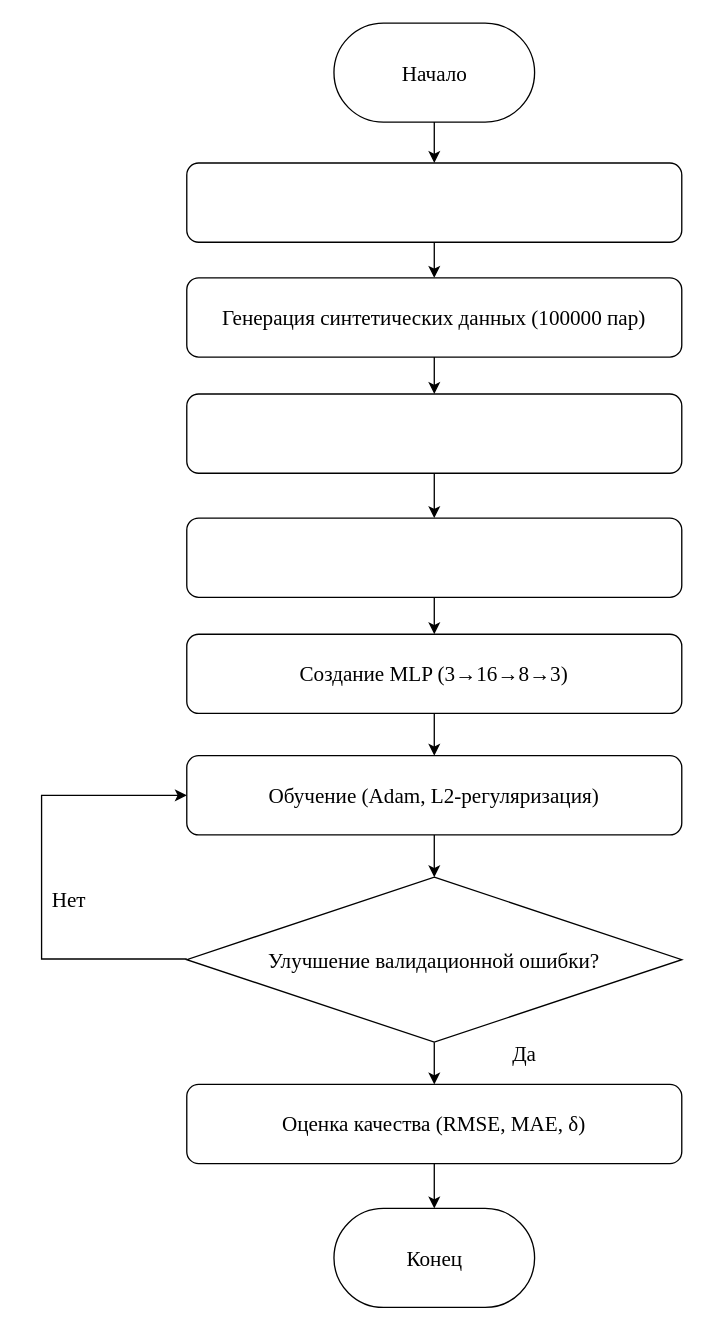
This 705x1331 diagram has some shape labels left out. The centre of each missing label's shape, as x and y in pixels:
"Задание параметров датчика (S, b, T, Уровни шума)" goes at (x=433, y=202).
"Нормализация данных (Min-Max,[-1,1])" goes at (x=433, y=433).
"Разбиение выборки (70%/15%/15%)" goes at (x=433, y=557).
